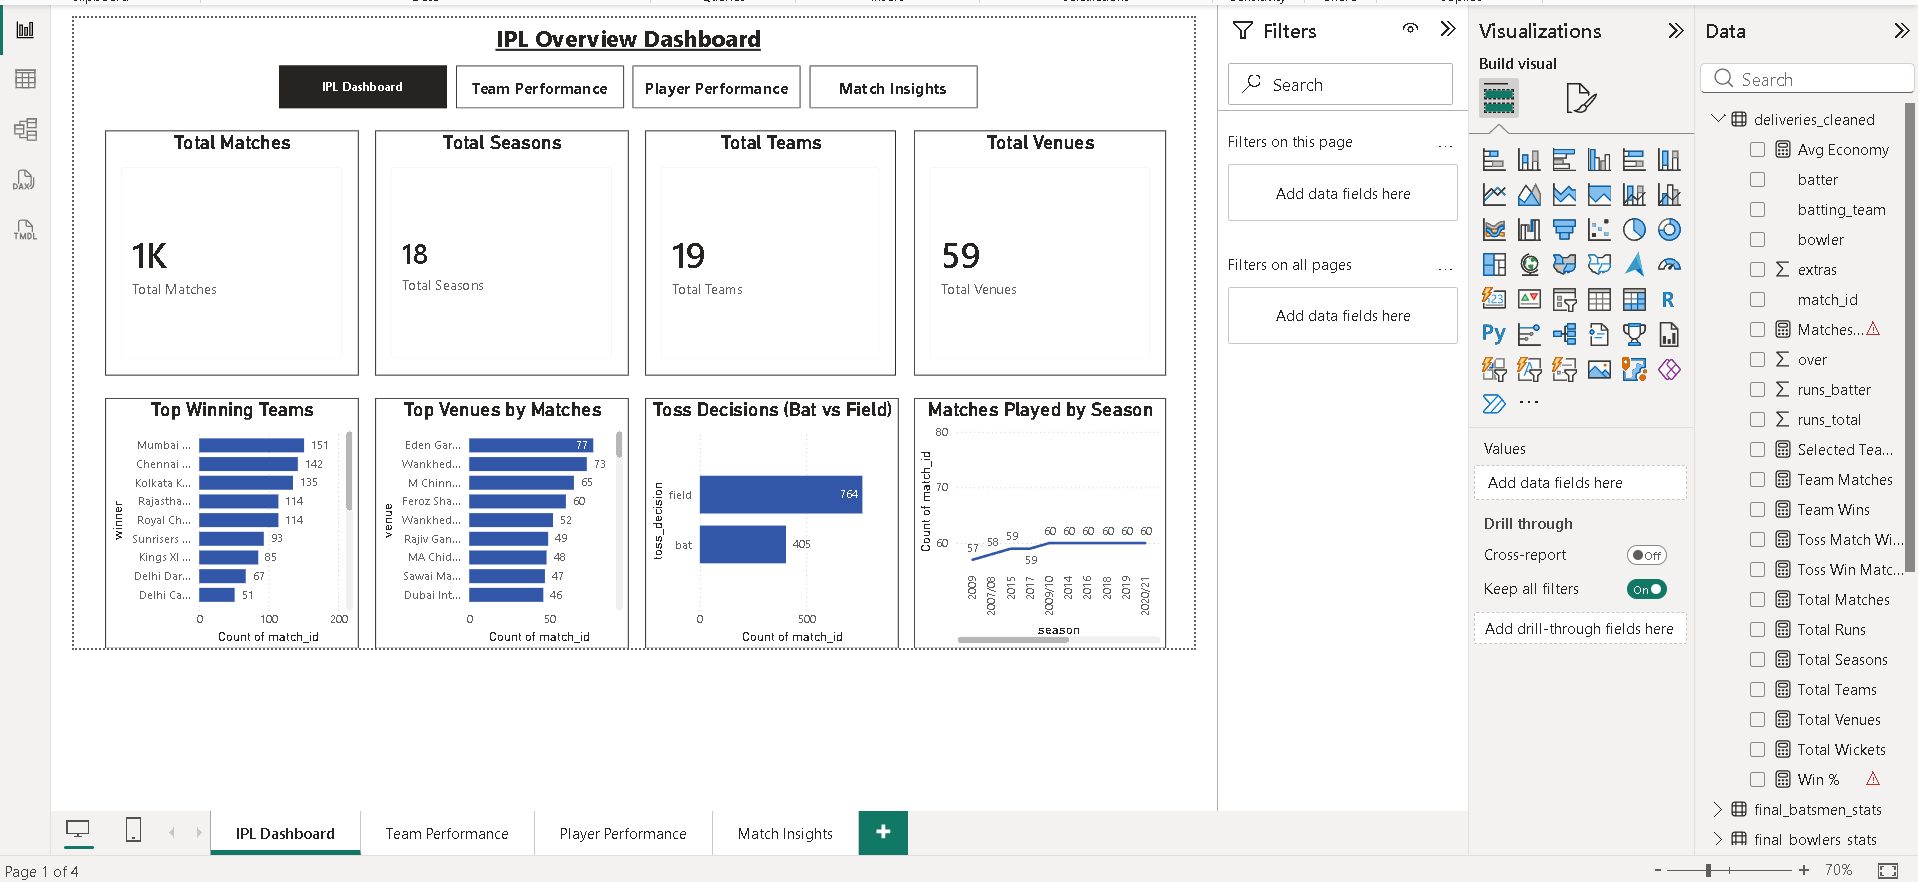

What the dashboard file says about the page in this screenshot:
{"tool":"powerbi","page":{"name":"IPL Dashboard","canvas":[1280,720],"ordinal":0},"visuals":[{"type":"cardVisual","title":"Total Matches","fields":{"Data":["deliveries_cleaned.Total Matches"]},"box":[35.7,129,289.5,279.9],"z":0},{"type":"cardVisual","title":"Total Teams","fields":{"Data":["deliveries_cleaned.Total Teams"]},"box":[653.2,129,286.8,279.9],"z":1000},{"type":"cardVisual","title":"Total Venues","fields":{"Data":["deliveries_cleaned.Total Venues"]},"box":[960.6,129,288.2,279.9],"z":2000},{"type":"clusteredBarChart","title":"Top Winning Teams","fields":{"Category":["matches_cleaned.winner"],"Y":["CountNonNull(matches_cleaned.match_id)"]},"box":[35.7,433.6,289.5,286.8],"z":3000},{"type":"clusteredBarChart","title":"Top Venues by Matches","fields":{"Category":["matches_cleaned.venue"],"Y":["CountNonNull(matches_cleaned.match_id)"]},"box":[344.4,433.6,289.5,286.8],"z":4000},{"type":"clusteredBarChart","title":"Toss Decisions (Bat vs Field)","fields":{"Category":["matches_cleaned.toss_decision"],"Y":["CountNonNull(matches_cleaned.match_id)"]},"box":[653.2,433.6,289.5,286.8],"z":5000},{"type":"lineChart","title":"Matches Played by Season","fields":{"Y":["CountNonNull(matches_cleaned.match_id)"],"Category":["matches_cleaned.season"]},"box":[960.6,433.6,288.2,286.8],"z":6000},{"type":"textbox","box":[19.2,0,1229.5,54.9],"z":7000},{"type":"cardVisual","title":"Total Seasons","fields":{"Data":["deliveries_cleaned.Total Seasons"]},"box":[344.4,129,289.5,279.9],"z":8000},{"type":"pageNavigator","box":[234.6,54.9,800,49.4],"z":9000}]}

Visuals, with their boxes on the page's 1280x720 design canvas (x1, y1, x2, y2). These are canvas units, not pixel positions in the 1918x882 screenshot, which may show the page scaled, cropped or inside an application window:
"Total Matches" cardVisual: 36,129,325,409
"Total Teams" cardVisual: 653,129,940,409
"Total Venues" cardVisual: 961,129,1249,409
"Top Winning Teams" clusteredBarChart: 36,434,325,720
"Top Venues by Matches" clusteredBarChart: 344,434,634,720
"Toss Decisions (Bat vs Field)" clusteredBarChart: 653,434,943,720
"Matches Played by Season" lineChart: 961,434,1249,720
textbox: 19,0,1249,55
"Total Seasons" cardVisual: 344,129,634,409
pageNavigator: 235,55,1035,104
